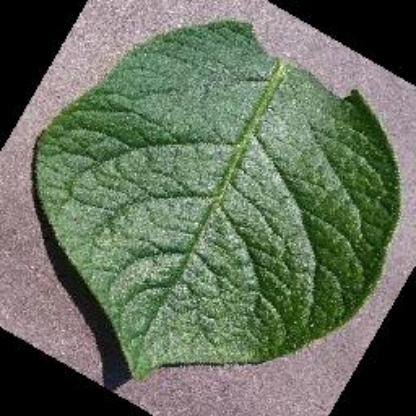Healthy-plant: (32, 18, 404, 384)
